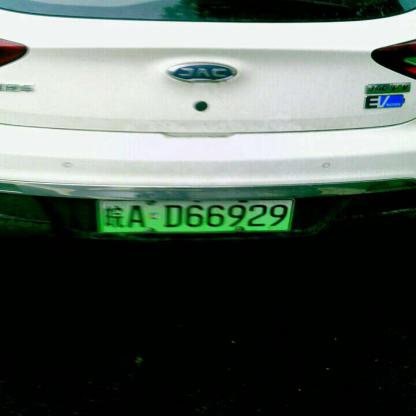lp: (98, 198, 293, 231)
